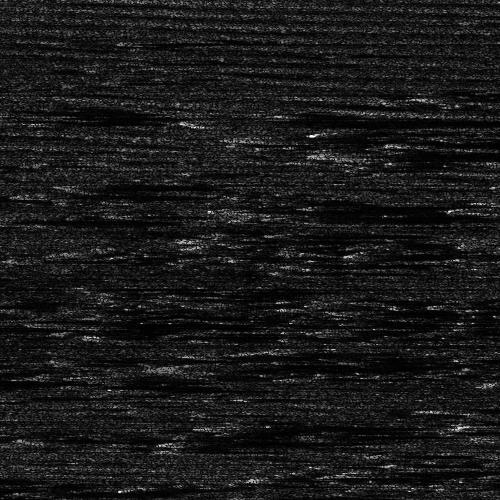object: (292, 143, 375, 164), (0, 102, 108, 117), (126, 360, 261, 371), (396, 420, 500, 433), (402, 477, 500, 490), (0, 319, 125, 328), (325, 324, 398, 333), (433, 202, 500, 211), (58, 178, 111, 189), (205, 421, 268, 430), (156, 117, 219, 126), (0, 190, 67, 197), (400, 406, 473, 411), (221, 135, 284, 140), (0, 215, 34, 224), (405, 300, 458, 305), (356, 451, 409, 456), (32, 489, 73, 494), (0, 392, 34, 397), (476, 433, 500, 440), (161, 446, 214, 449), (346, 470, 377, 473)
shadow: (0, 315, 261, 340), (0, 465, 192, 492), (333, 143, 500, 164), (188, 117, 486, 126), (15, 102, 164, 117), (194, 360, 374, 371), (237, 421, 423, 430), (84, 178, 213, 189), (0, 215, 156, 224), (63, 319, 201, 328), (253, 135, 500, 140), (31, 190, 189, 197), (362, 324, 442, 333), (52, 489, 191, 494), (458, 420, 500, 433), (464, 477, 500, 490), (0, 376, 38, 387), (382, 451, 463, 456), (432, 300, 500, 305), (0, 392, 63, 397), (437, 406, 500, 411), (470, 202, 500, 211), (188, 446, 260, 449), (362, 470, 401, 473)
